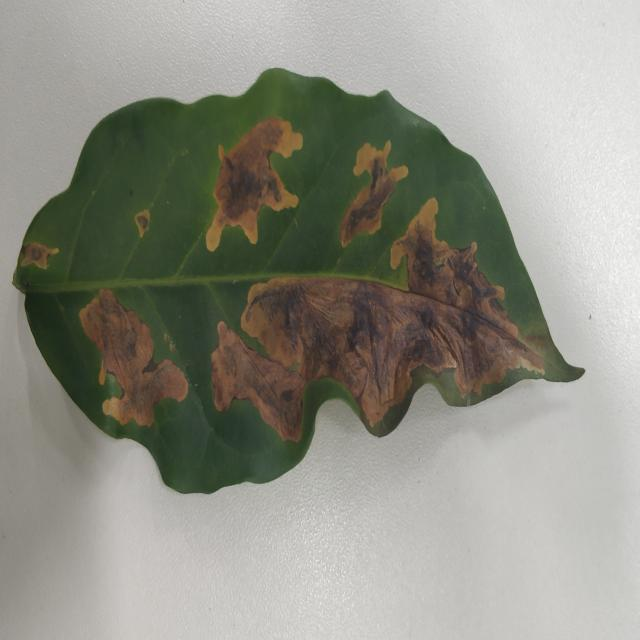Plaga-Minador: (13, 68, 586, 497)
